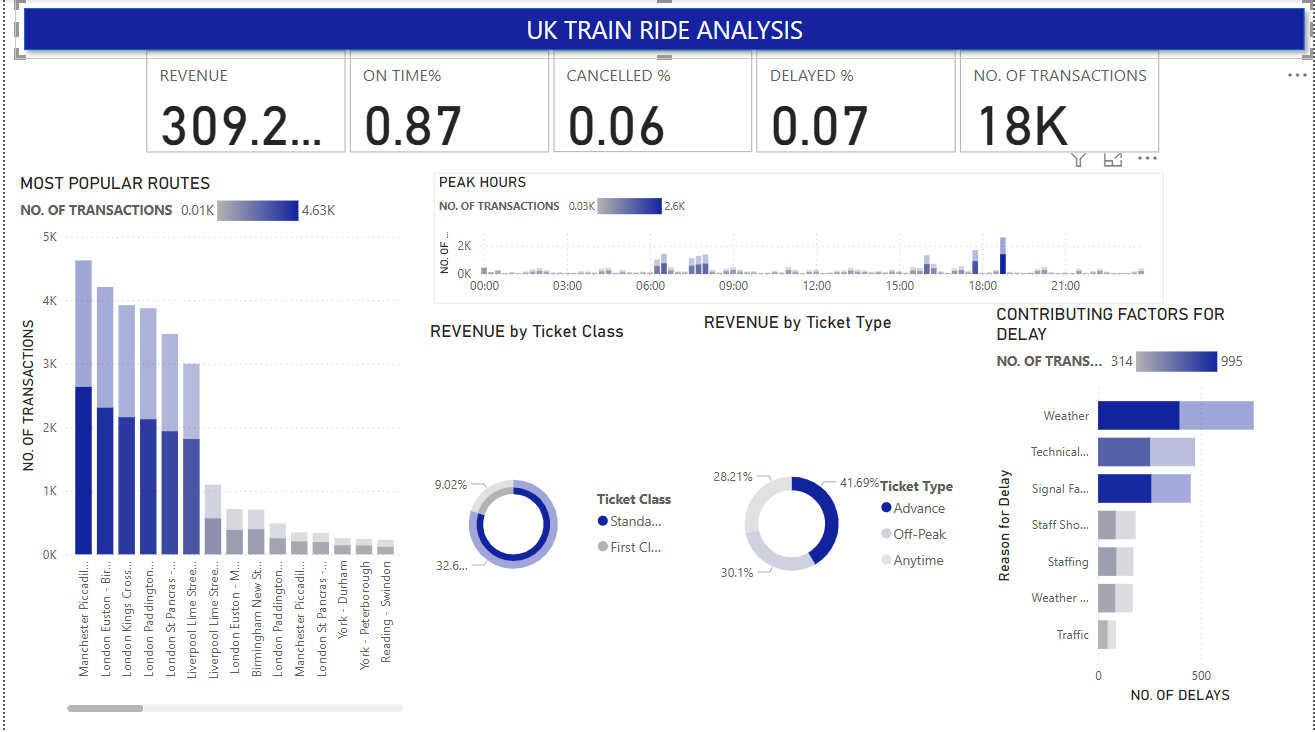

This screenshot's page, from the dashboard's own definition file:
{"tool":"powerbi","page":{"name":"Page 1","canvas":[1280,720],"ordinal":0},"visuals":[{"type":"shape","box":[9.6,0,1270.7,59],"z":0},{"type":"columnChart","title":"MOST POPULAR ROUTES","fields":{"Category":["railway.ROUTE"],"Y":["KEY MEASURES.NO. OF TRANSACTIONS"]},"box":[10.2,169.6,385.1,533],"z":1000},{"type":"columnChart","title":"PEAK  HOURS","fields":{"Category":["railway.Departure Time"],"Y":["KEY MEASURES.NO. OF TRANSACTIONS"]},"box":[419.5,169.6,714.1,128.8],"z":2000},{"type":"donutChart","fields":{"Y":["KEY MEASURES.REVENUE"],"Category":["railway.Ticket Class"]},"box":[410.6,313.7,255,380],"z":3000},{"type":"donutChart","fields":{"Y":["KEY MEASURES.REVENUE"],"Category":["railway.Ticket Type"]},"box":[678.4,306,270.3,396.6],"z":4000},{"type":"clusteredBarChart","title":"CONTRIBUTING FACTORS FOR DELAY","fields":{"Y":["KEY MEASURES.NO. OF DELAYS"],"Category":["railway.Reason for Delay"]},"box":[965.3,298.4,280.5,395.3],"z":5000},{"type":"cardVisual","fields":{"Data":["KEY MEASURES.REVENUE","KEY MEASURES.ON TIME%","KEY MEASURES.CANCELLED %","KEY MEASURES.DELAYED %","KEY MEASURES.NO. OF TRANSACTIONS"]},"box":[137.7,49.7,995.9,100.7],"z":6000}]}

Visuals, with their boxes on the page's 1280x720 design canvas (x1, y1, x2, y2). These are canvas units, not pixel positions in the 1315x732 screenshot, which may show the page scaled, cropped or inside an application window:
shape: [10, 0, 1280, 59]
"MOST POPULAR ROUTES" columnChart: [10, 170, 395, 703]
"PEAK  HOURS" columnChart: [420, 170, 1134, 298]
donutChart - KEY MEASURES.REVENUE x railway.Ticket Class: [411, 314, 666, 694]
donutChart - KEY MEASURES.REVENUE x railway.Ticket Type: [678, 306, 949, 703]
"CONTRIBUTING FACTORS FOR DELAY" clusteredBarChart: [965, 298, 1246, 694]
cardVisual - KEY MEASURES.REVENUE x KEY MEASURES.ON TIME%: [138, 50, 1134, 150]
